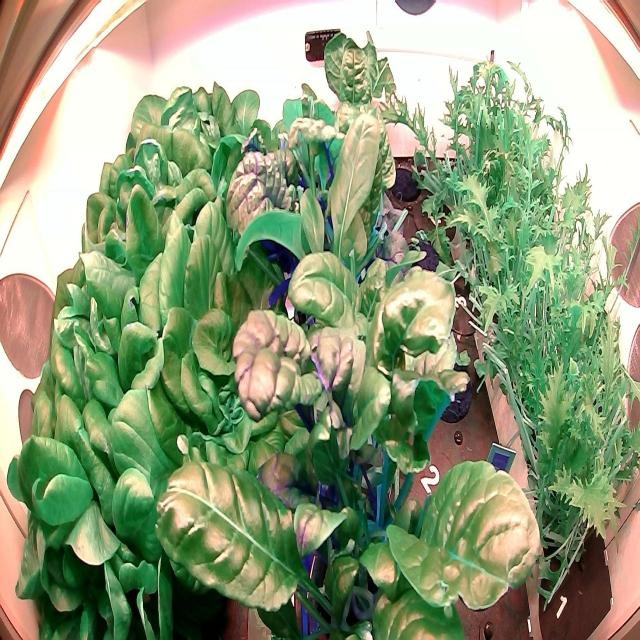Ready: (5, 346, 172, 639), (31, 228, 185, 469), (83, 63, 252, 276), (158, 246, 286, 466)
pod: (400, 226, 451, 294), (386, 150, 424, 206)
